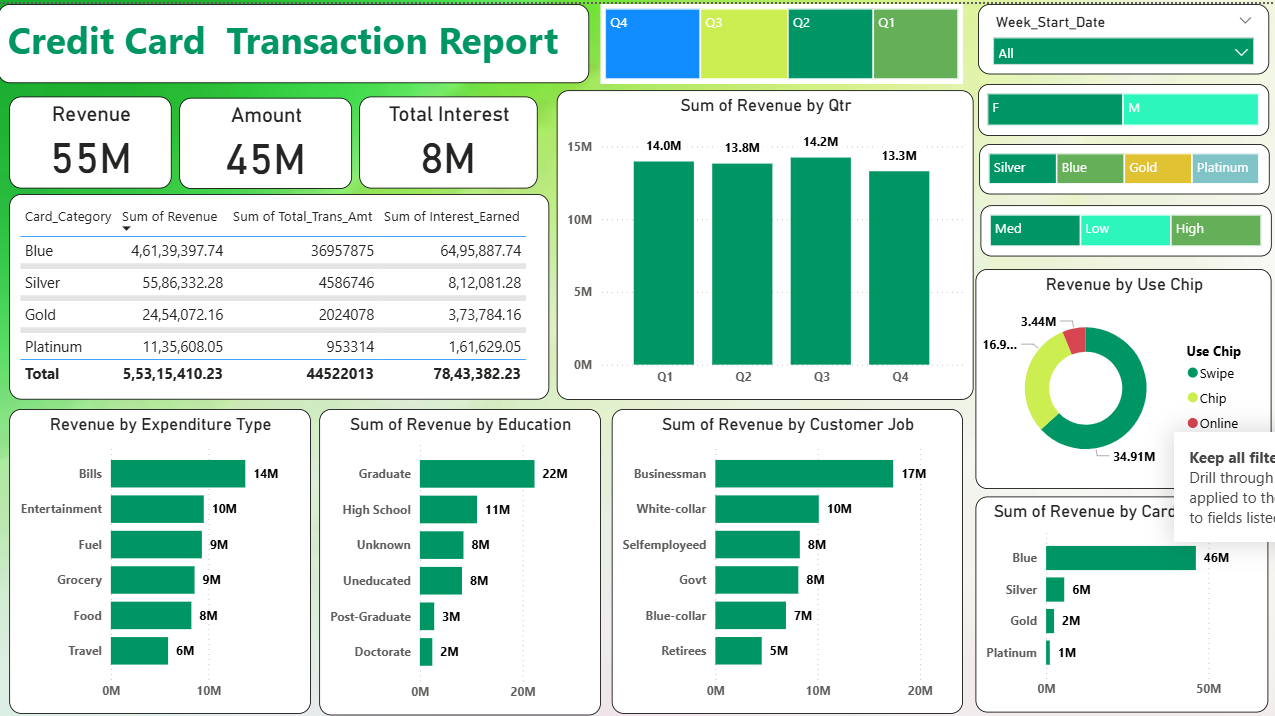

The dashboard page shown, as its layout file describes it:
{"tool":"powerbi","page":{"name":"CC Transaction","canvas":[1280,720],"ordinal":1},"visuals":[{"type":"textbox","box":[0,0,591.5,79.3],"z":0},{"type":"lineClusteredColumnComboChart","fields":{"Category":["creadit_card.Qtr"],"Y":["Sum(creadit_card.Revenue)"]},"box":[558.2,86.3,417,309.8],"z":1000},{"type":"barChart","title":"Revenue by Expenditure Type","fields":{"Y":["Sum(creadit_card.Revenue)"],"Category":["creadit_card.Exp Type"]},"box":[11.2,405,301.2,305],"z":2000},{"type":"barChart","title":"Sum of Revenue by Education","fields":{"Y":["Sum(creadit_card.Revenue)"],"Category":["customer.Education_Level"]},"box":[321.2,405,281.2,306.2],"z":3000},{"type":"barChart","title":"Sum of Revenue by Customer Job","fields":{"Y":["Sum(creadit_card.Revenue)"],"Category":["customer.Customer_Job"]},"box":[613.9,404.9,350.8,304.9],"z":4000},{"type":"donutChart","title":"Revenue by Use Chip","fields":{"Category":["creadit_card.Use Chip"],"Y":["Sum(creadit_card.Revenue)"]},"box":[977.5,265,296.2,220],"z":5000},{"type":"tableEx","fields":{"Values":["creadit_card.Card_Category","Sum(creadit_card.Revenue)","Sum(creadit_card.Total_Trans_Amt)","Sum(creadit_card.Interest_Earned)"]},"box":[11.1,190.2,539.9,205.9],"z":6000},{"type":"card","title":"Revenue","fields":{"Values":["Sum(creadit_card.Revenue)"]},"box":[11.1,92.2,162.7,92.2],"z":7000},{"type":"card","title":"Total Interest","fields":{"Values":["Sum(creadit_card.Interest_Earned)"]},"box":[361.4,92.2,178.4,92.2],"z":8000},{"type":"card","title":"Amount","fields":{"Values":["Sum(creadit_card.Total_Trans_Amt)"]},"box":[180.9,93.2,173.2,91.4],"z":9000},{"type":"slicer","fields":{"Values":["creadit_card.Week_Start_Date"]},"box":[980.1,0,291,70.1],"z":10000},{"type":"treemap","fields":{"Group":["creadit_card.Qtr"],"Values":["Avg(customer.Client_Num)"]},"box":[602.3,0,362.8,80.2],"z":11000},{"type":"treemap","fields":{"Group":["customer.Gender"],"Values":["Avg(customer.Client_Num)"]},"box":[980.1,80.1,291,51.7],"z":12000},{"type":"treemap","fields":{"Values":["Avg(customer.Client_Num)"],"Group":["creadit_card.Card_Category"]},"box":[981.1,139.8,290,50.2],"z":13000},{"type":"treemap","fields":{"Values":["Avg(customer.Client_Num)"],"Group":["customer.Income Group"]},"box":[982.6,201.5,291,51.2],"z":14000},{"type":"clusteredBarChart","fields":{"Category":["creadit_card.Card_Category"],"Y":["Sum(creadit_card.Revenue)"]},"box":[977.9,493,293,216.3],"z":15000}]}

Visuals, with their boxes in screenshot pixels (x1, y1, x2, y2), scaled from the page's 1280x720 canvas onto the 1275x716 screenshot:
textbox: (0,0,589,79)
lineClusteredColumnComboChart - creadit_card.Qtr x Sum(creadit_card.Revenue): (556,86,971,394)
"Revenue by Expenditure Type" barChart: (11,403,311,706)
"Sum of Revenue by Education" barChart: (320,403,600,707)
"Sum of Revenue by Customer Job" barChart: (612,403,961,706)
"Revenue by Use Chip" donutChart: (974,264,1269,482)
tableEx - creadit_card.Card_Category x Sum(creadit_card.Revenue): (11,189,549,394)
"Revenue" card: (11,92,173,183)
"Total Interest" card: (360,92,538,183)
"Amount" card: (180,93,353,184)
slicer - creadit_card.Week_Start_Date: (976,0,1266,70)
treemap - creadit_card.Qtr x Avg(customer.Client_Num): (600,0,961,80)
treemap - customer.Gender x Avg(customer.Client_Num): (976,80,1266,131)
treemap - Avg(customer.Client_Num) x creadit_card.Card_Category: (977,139,1266,189)
treemap - Avg(customer.Client_Num) x customer.Income Group: (979,200,1269,251)
clusteredBarChart - creadit_card.Card_Category x Sum(creadit_card.Revenue): (974,490,1266,705)
